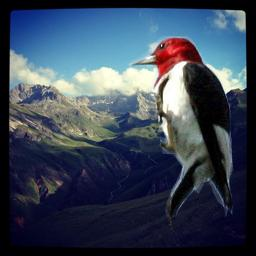Woodpecker: (127, 36, 235, 217)
